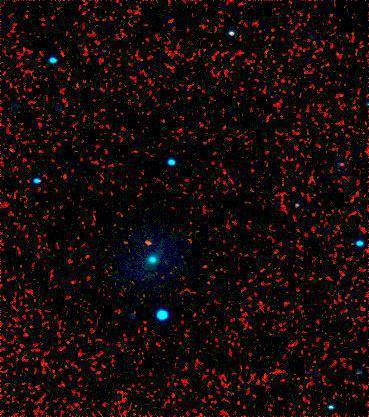star: (138, 225, 168, 255)
